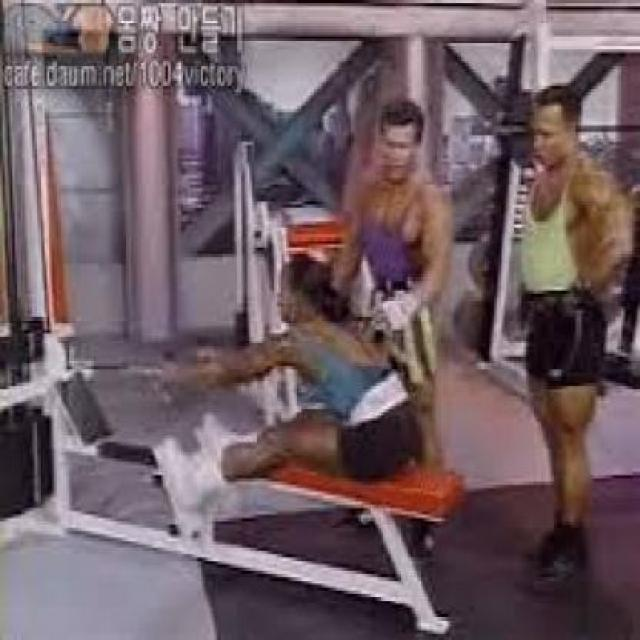Seated Cable Rows: (0, 166, 472, 640)
